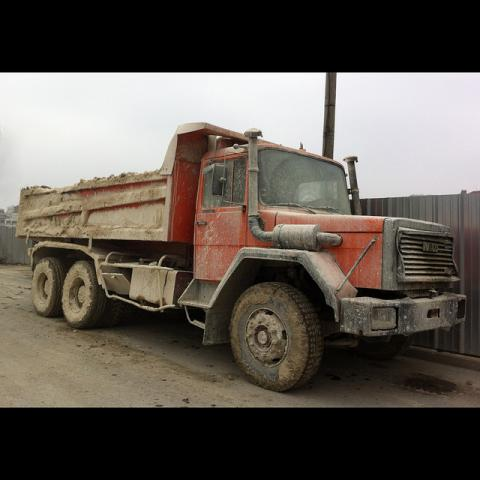truck: (13, 123, 469, 392)
